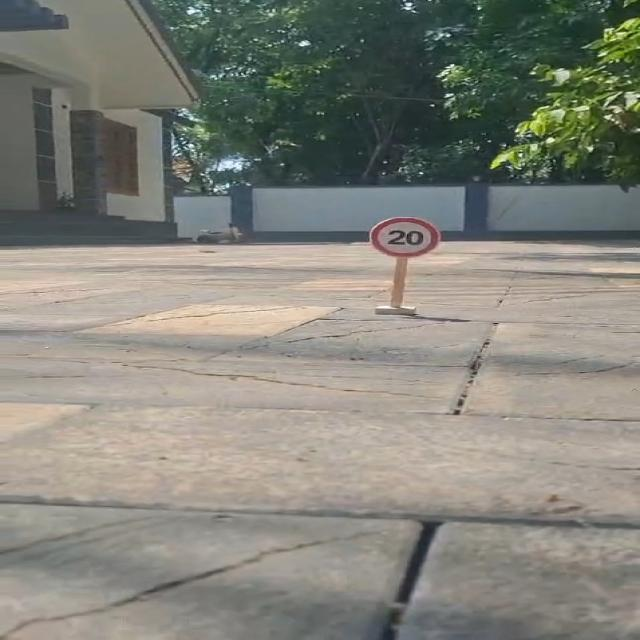Speed20: (360, 211, 447, 262)
